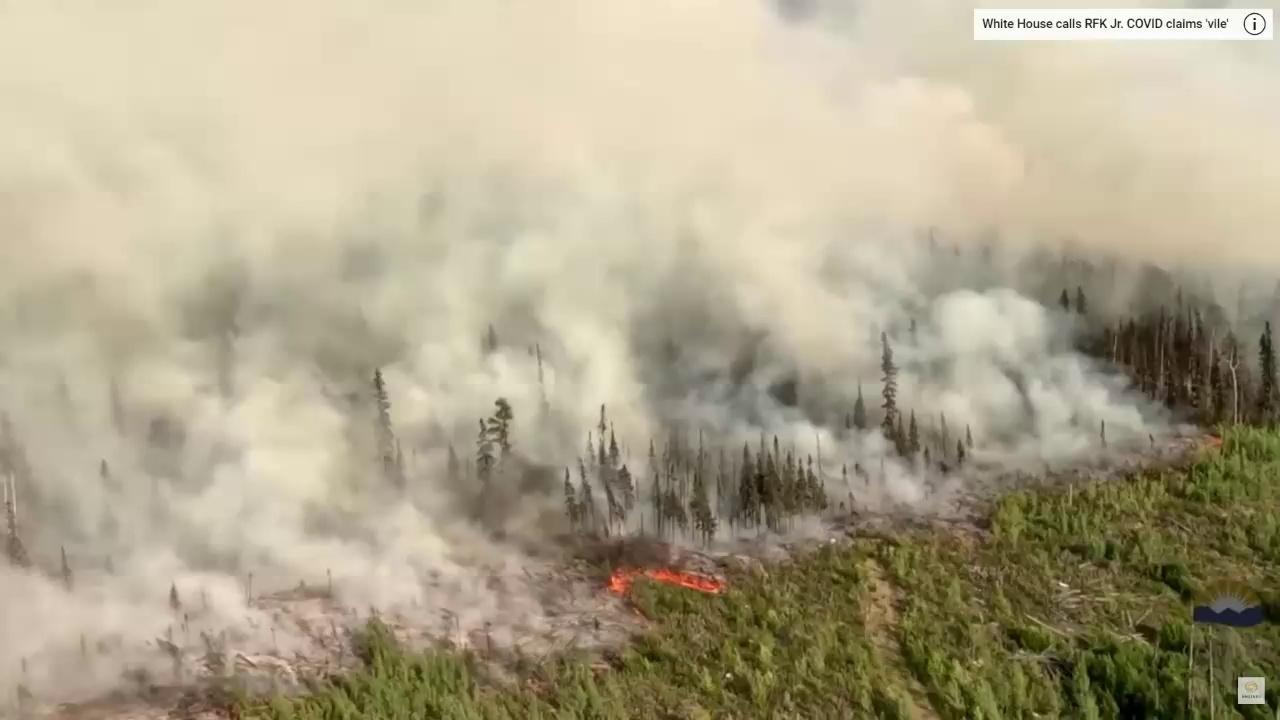fire: (605, 558, 727, 599)
smoke: (0, 0, 1280, 720)
